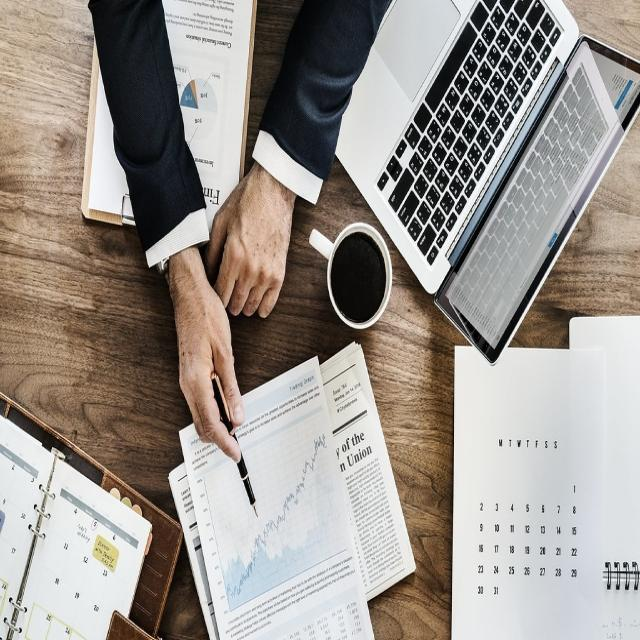E-waste: (350, 0, 639, 355)
